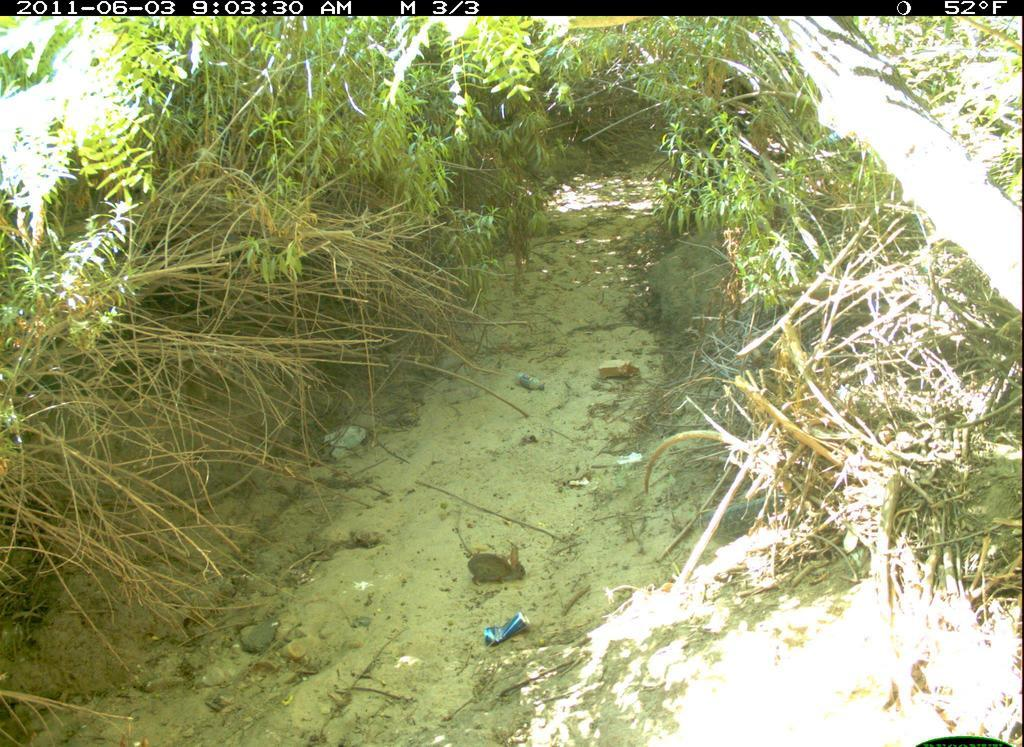rabbit: (466, 538, 536, 592)
